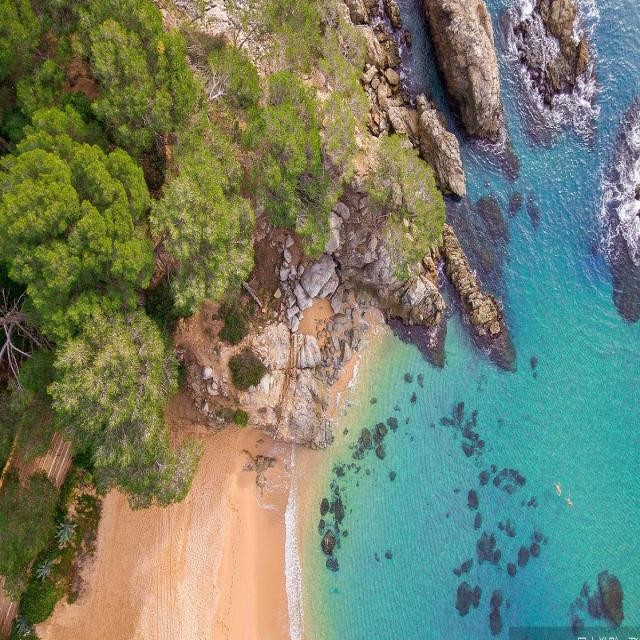reef: (381, 0, 611, 149)
